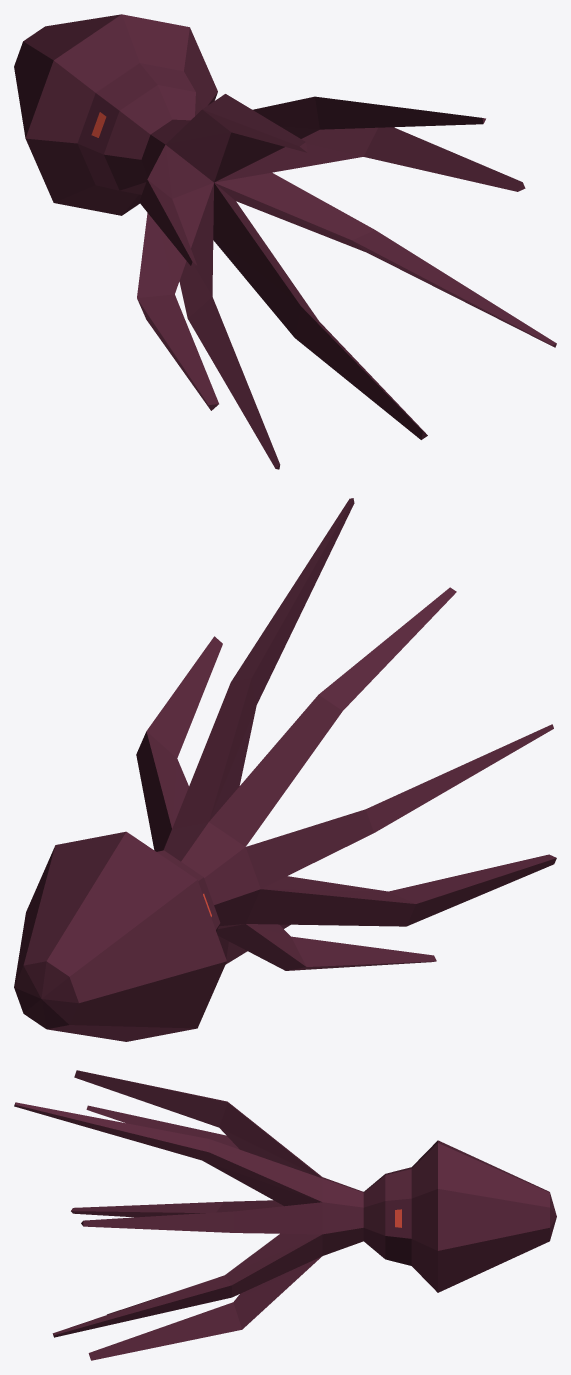
The model's file is Enemy4Krkn.dae.
The picture shows the model from 3 angles, top to bottom: view 1: azimuth 30°, elevation 25°; view 2: azimuth 150°, elevation 25°; view 3: azimuth 270°, elevation 25°; orthographic projection. The views are drawn at different scales.
Parts seen in each view (by area): view 1: Enemy4Krkn; view 2: Enemy4Krkn; view 3: Enemy4Krkn.
Boxes of the visible parts, box(x1,y1,x2,y2) form: Enemy4Krkn: box(14, 14, 556, 469); Enemy4Krkn: box(14, 498, 556, 1041); Enemy4Krkn: box(14, 1070, 556, 1360).
Bounding box in the file's own units: 5.5 × 10.32 × 5.58.
